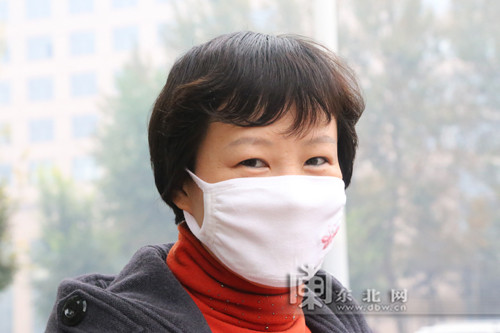mask: (179, 137, 359, 289)
